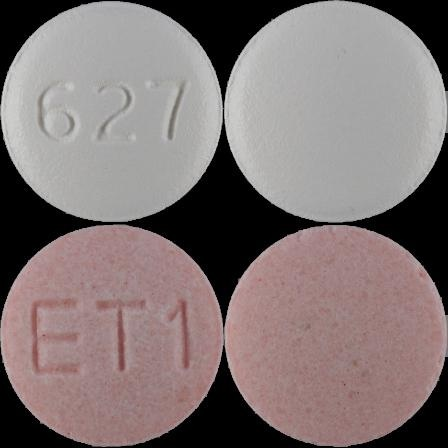13811-627: (0, 0, 224, 224)
